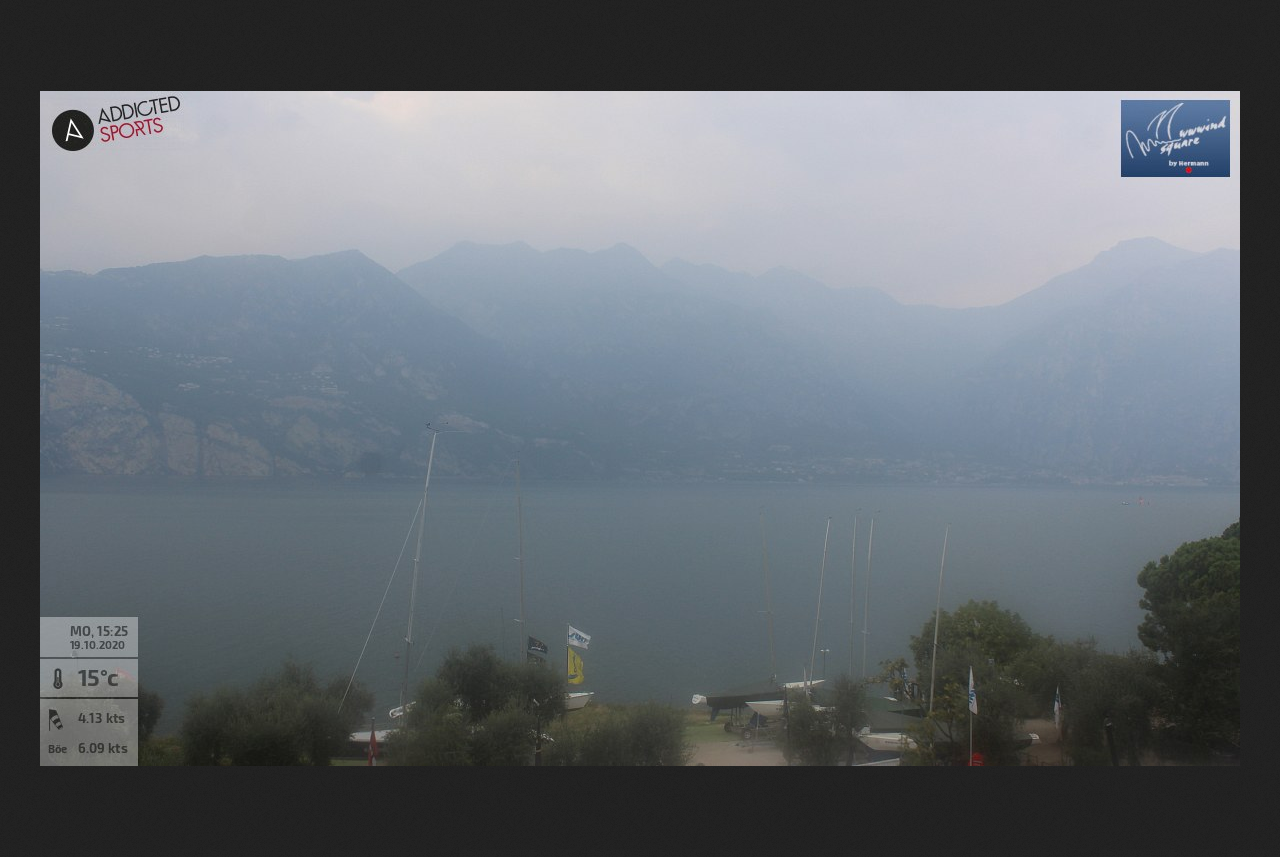no: (962, 662, 983, 725)
yes: (562, 618, 596, 652), (562, 646, 590, 685), (524, 632, 554, 657)
